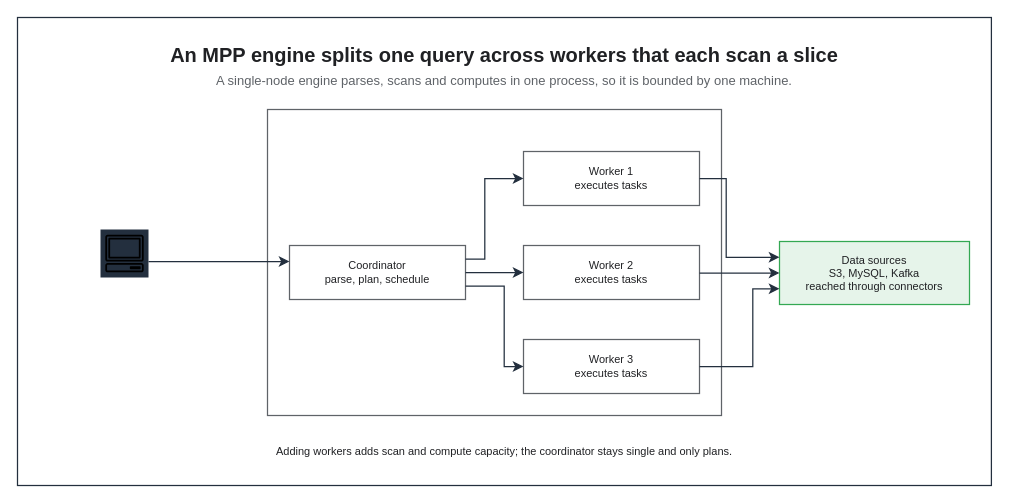
This 1010x504 diagram has some shape labels left out. Here are the shapes that lost their labels. From the top down, the box of each, then its label:
(100, 229, 148, 277): Client submits SQL
(266, 108, 722, 416): Distributed SQL engine (Trino, Presto, Athena)
